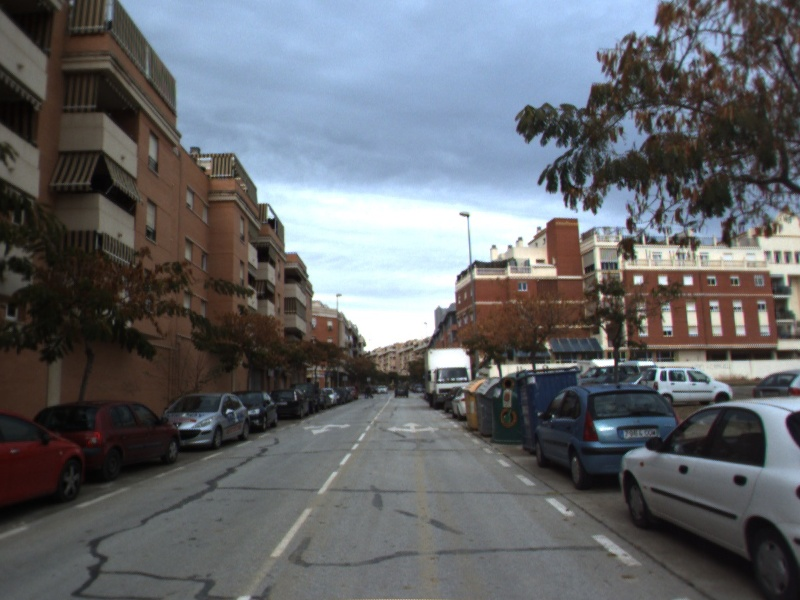STRAIGHT_LEFT_RIGHT: (385, 420, 441, 435)
